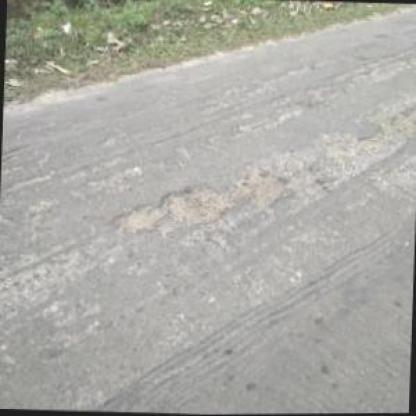pothole: (156, 182, 235, 226), (230, 170, 291, 210), (115, 203, 165, 232), (387, 98, 414, 138)
